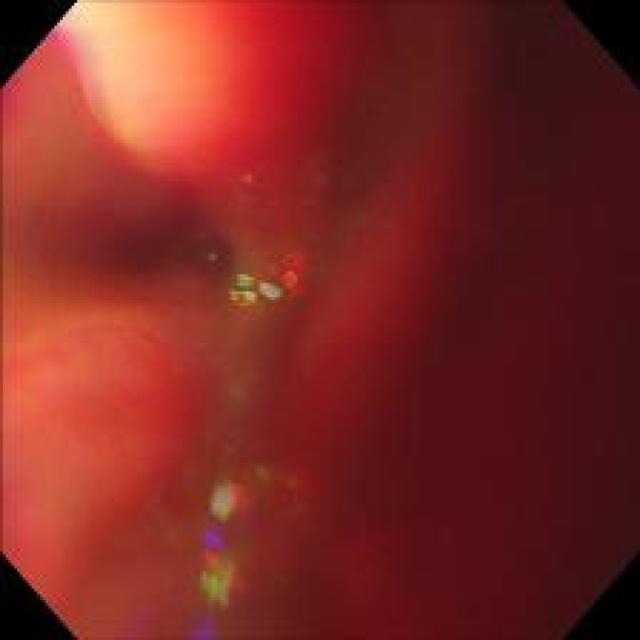blur: (14, 24, 626, 616)
color misalignment: (128, 401, 399, 624), (51, 5, 309, 182), (186, 224, 325, 355)
